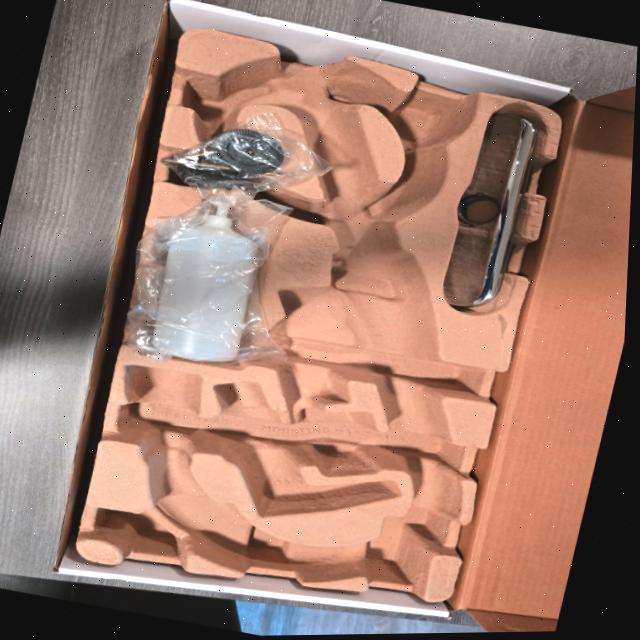1m: (130, 49, 455, 579)
2m: (215, 383, 401, 516)
3: (151, 202, 260, 365)
4: (446, 113, 539, 310)
5m: (393, 103, 452, 146)
6m: (175, 67, 274, 122)
7: (161, 110, 336, 197)
